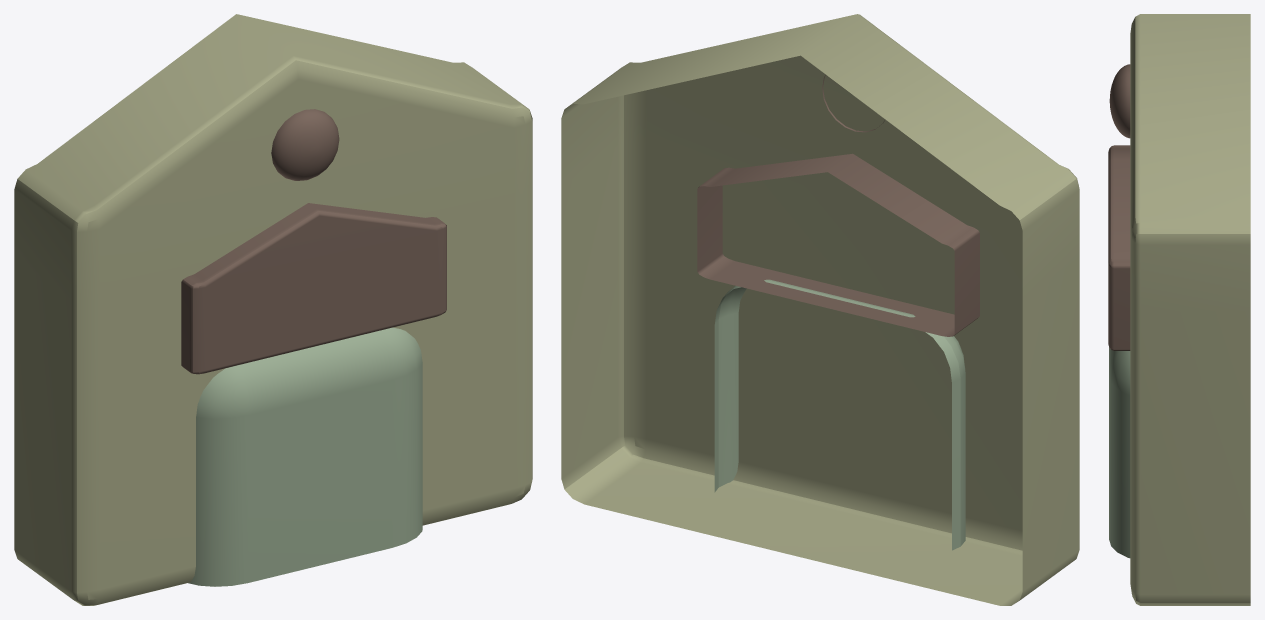
3 renders of one model, left to right at view 1: azimuth 30°, elevation 25°; view 2: azimuth 150°, elevation 25°; view 3: azimuth 270°, elevation 25°, orthographic. The views are drawn at different scales.
Parts seen in each view (by area): view 1: polySurface56, polySurface60, polySurface58; view 2: polySurface56, polySurface58, polySurface60; view 3: polySurface56, polySurface58, polySurface60.
Part boxes in pixels (bbox=[...]): polySurface56: bbox=[14, 14, 532, 605]; polySurface60: bbox=[188, 327, 422, 586]; polySurface58: bbox=[181, 109, 446, 374]; polySurface56: bbox=[561, 14, 1079, 605]; polySurface58: bbox=[697, 74, 979, 336]; polySurface60: bbox=[714, 279, 965, 550]; polySurface56: bbox=[1130, 14, 1250, 605]; polySurface58: bbox=[1108, 64, 1130, 350]; polySurface60: bbox=[1109, 347, 1130, 558].
Bounding box in the file's own units: 8.28 × 8.6 × 2.28.
